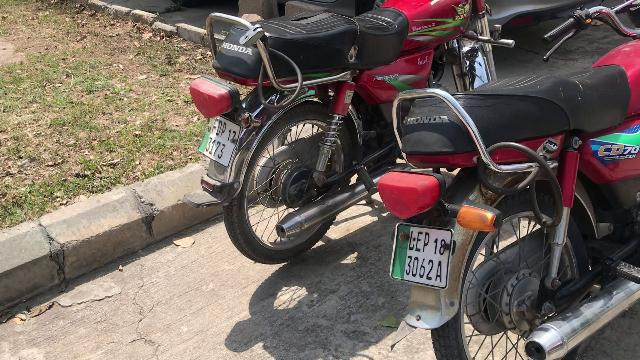plate: (388, 221, 450, 292)
